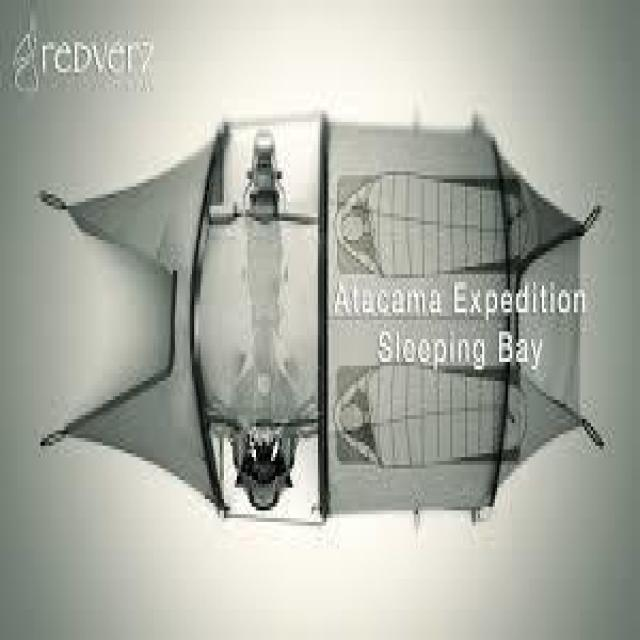Tanks: (24, 40, 568, 585)
